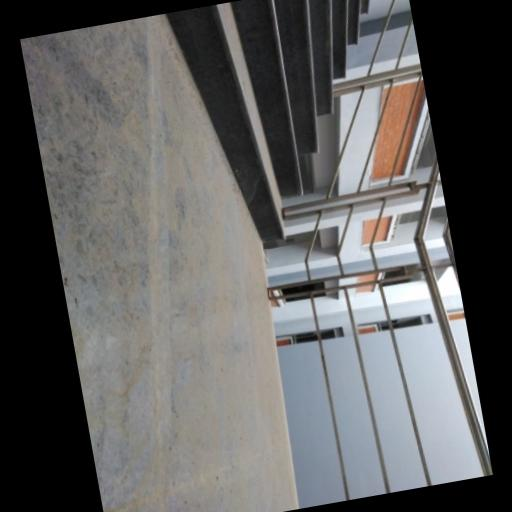stairs: (167, 0, 368, 239)
